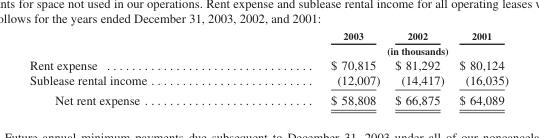table: (28, 29, 507, 107)
table column: (28, 29, 238, 107), (238, 29, 386, 107), (386, 29, 451, 107), (451, 29, 507, 107)
table column header: (28, 29, 507, 56)
table row: (28, 72, 507, 90), (28, 90, 507, 107), (28, 56, 507, 72), (28, 42, 507, 56), (28, 29, 507, 42)
table spanning cell: (238, 42, 507, 56)
